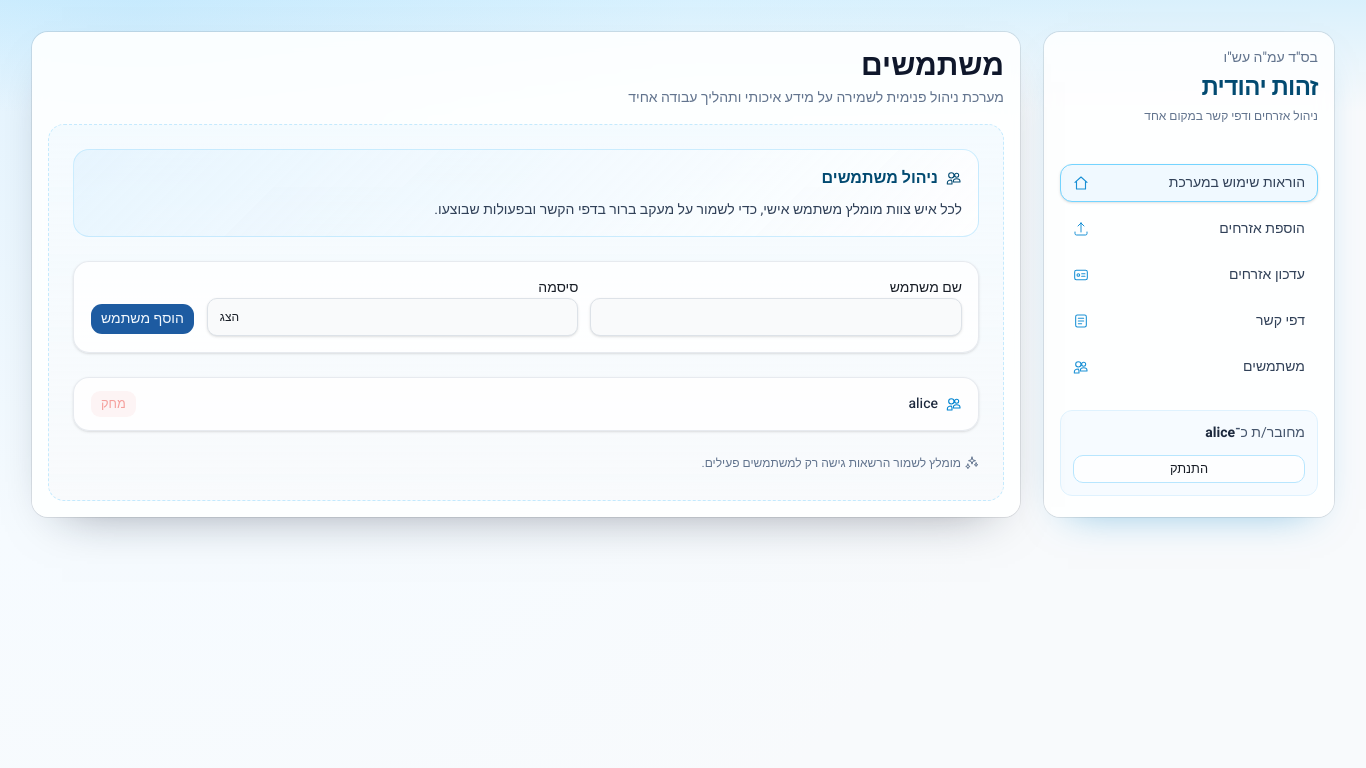
Scenario: Users page › shows error when create fails
This screenshot has width=1366, height=768.
Expected: the text "alice" is shown, [908,394,962,414]
Type "alice" into the field labelled "שם משתמש" at (776, 317), box [590,298,962,336]
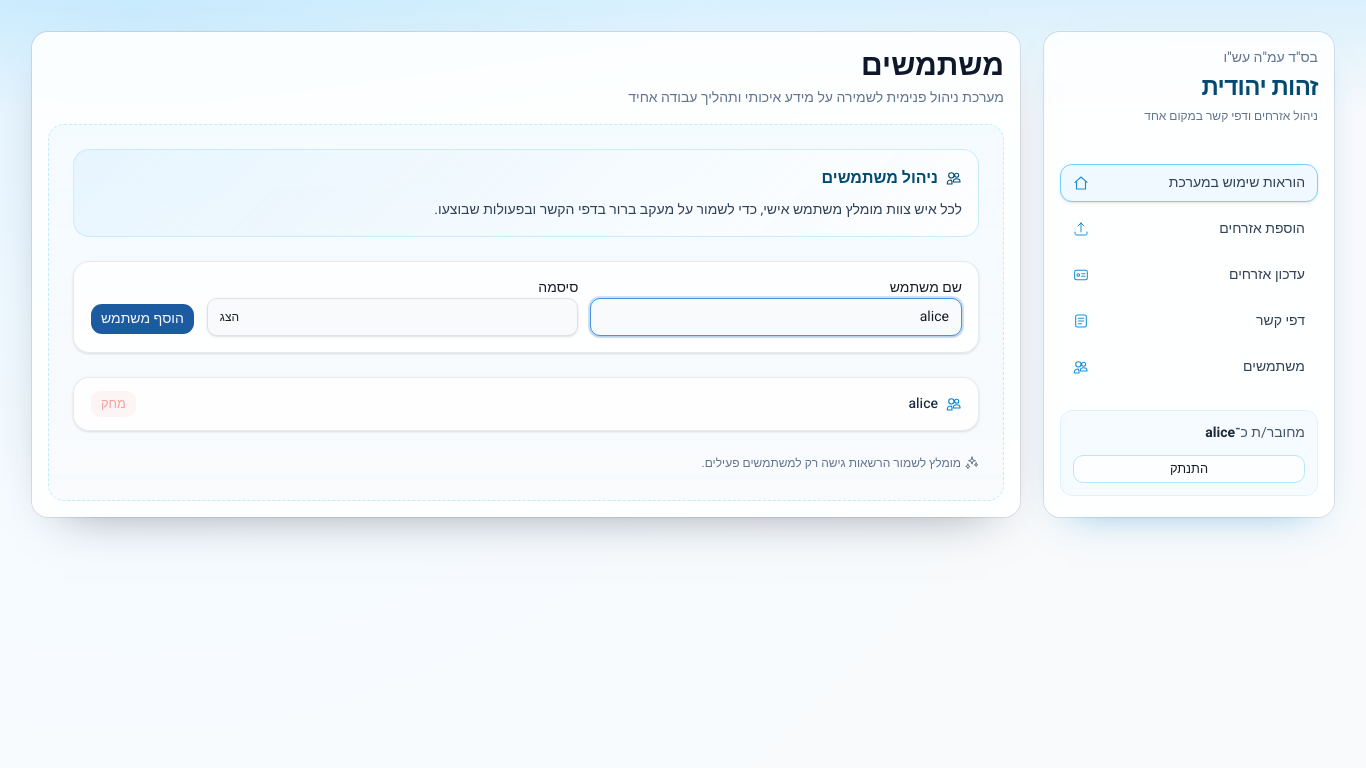
Type "secret-123" into the password field labelled "סיסמה" at (393, 317), box [207,298,578,336]
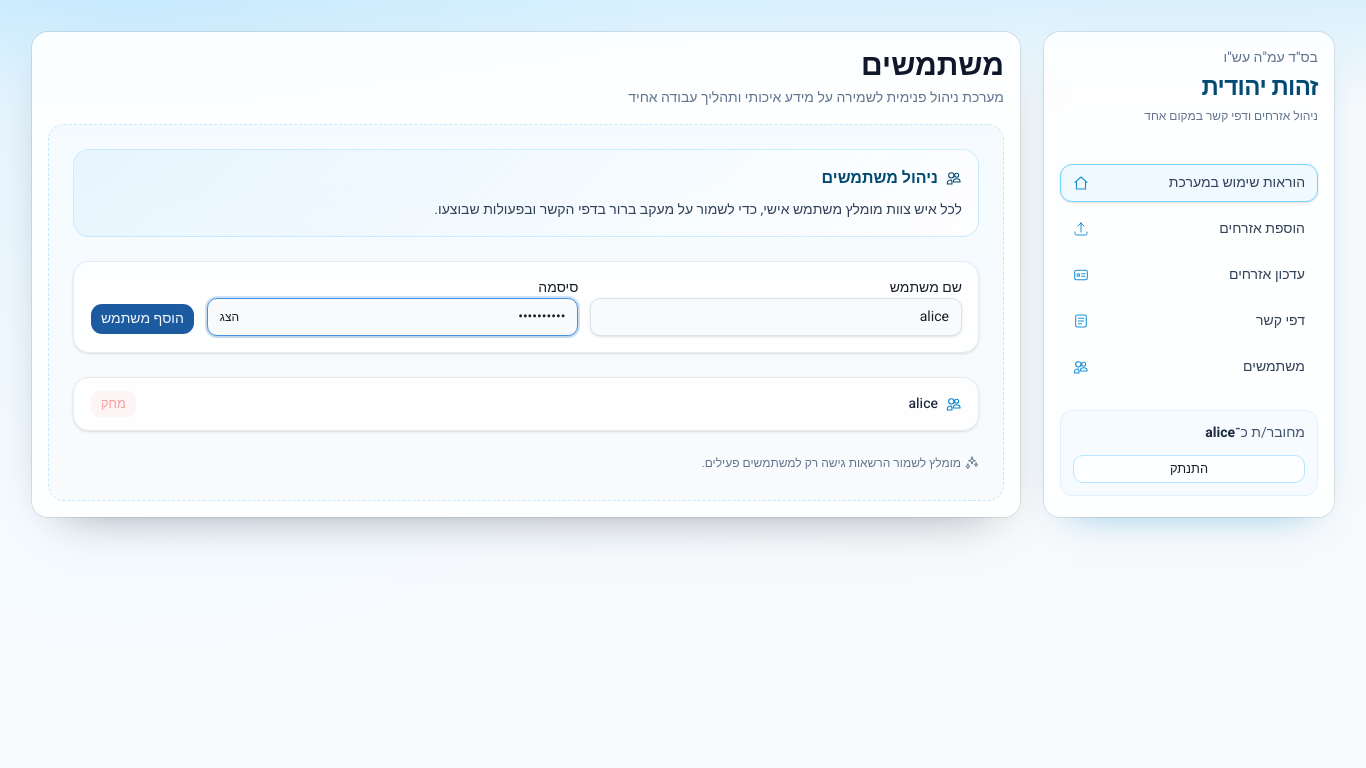
Click the button "הוסף משתמש" at (142, 319), box [90,303,195,335]
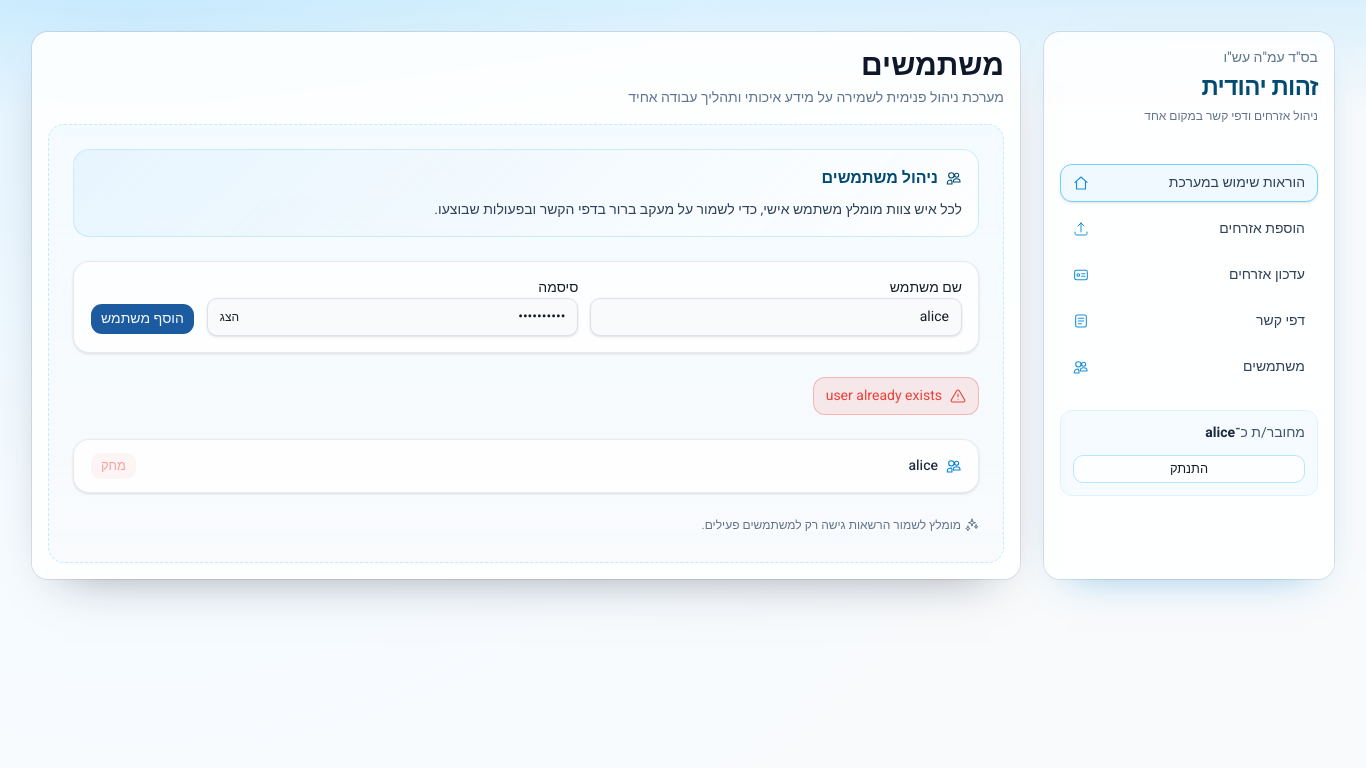
Expected: the message shows "already exists", [826,385,942,406]
